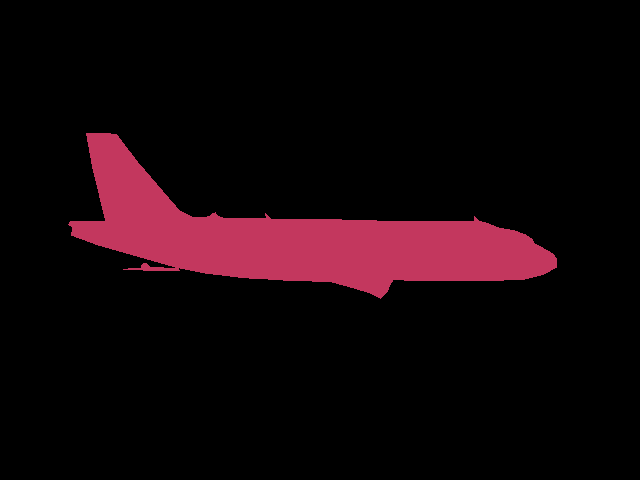Airplane: (68, 133, 557, 298), (123, 263, 179, 271)
